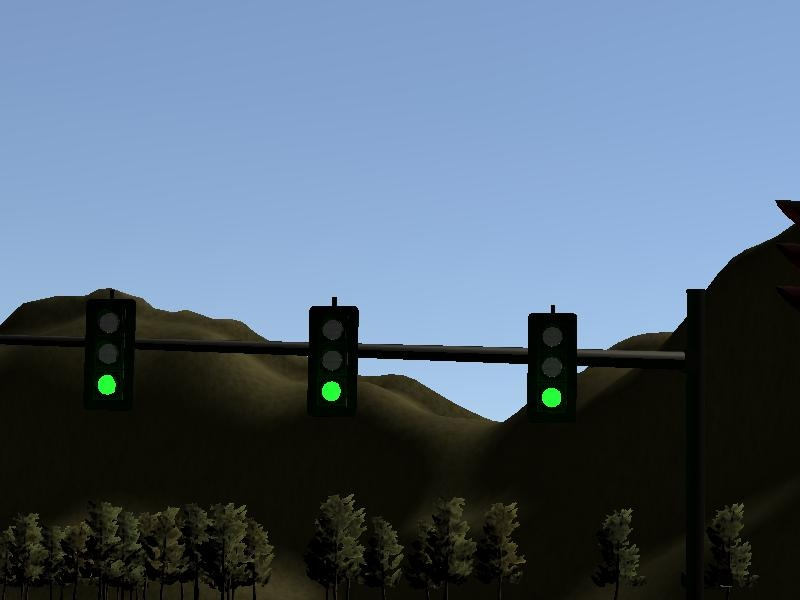GREEN: (84, 297, 135, 412), (308, 306, 357, 417), (526, 312, 575, 423)
